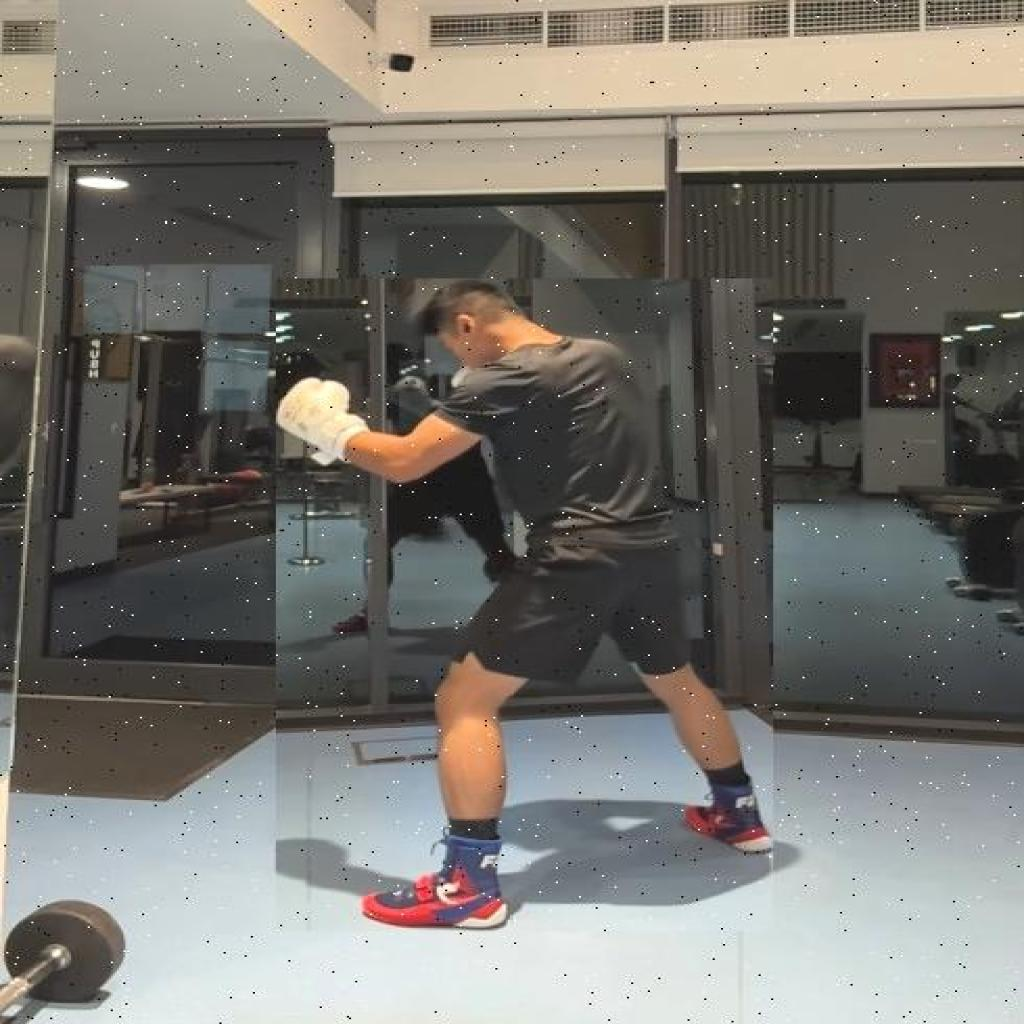uppercut: (276, 278, 773, 932)
